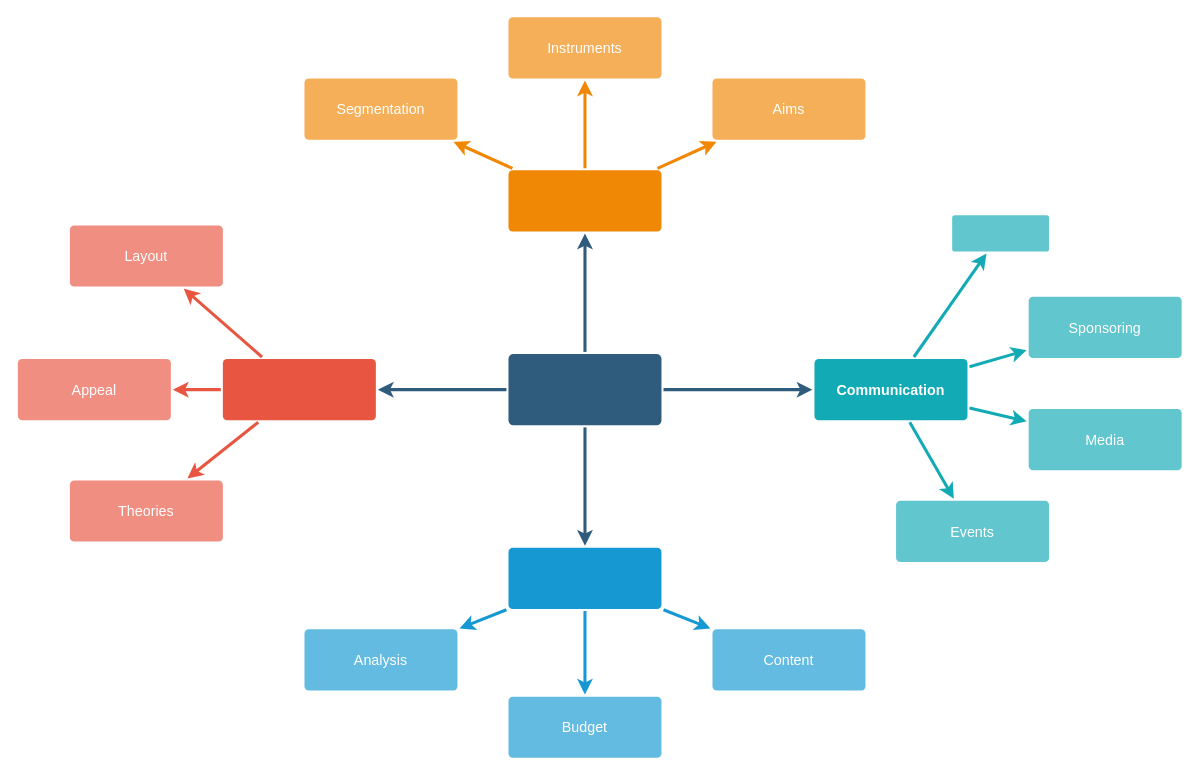
Image size: 1199x775. Some labels were removed from this diagram. The shapes that lost their labels are listed below. From the top down, each one's centre as x and y in pixels, then its label:
At (584,200): "Marketing".
At (1000,233): "PR".
At (298,389): "Embassy".
At (584,389): "WiF-AutoRace".
At (584,577): "Organization".
